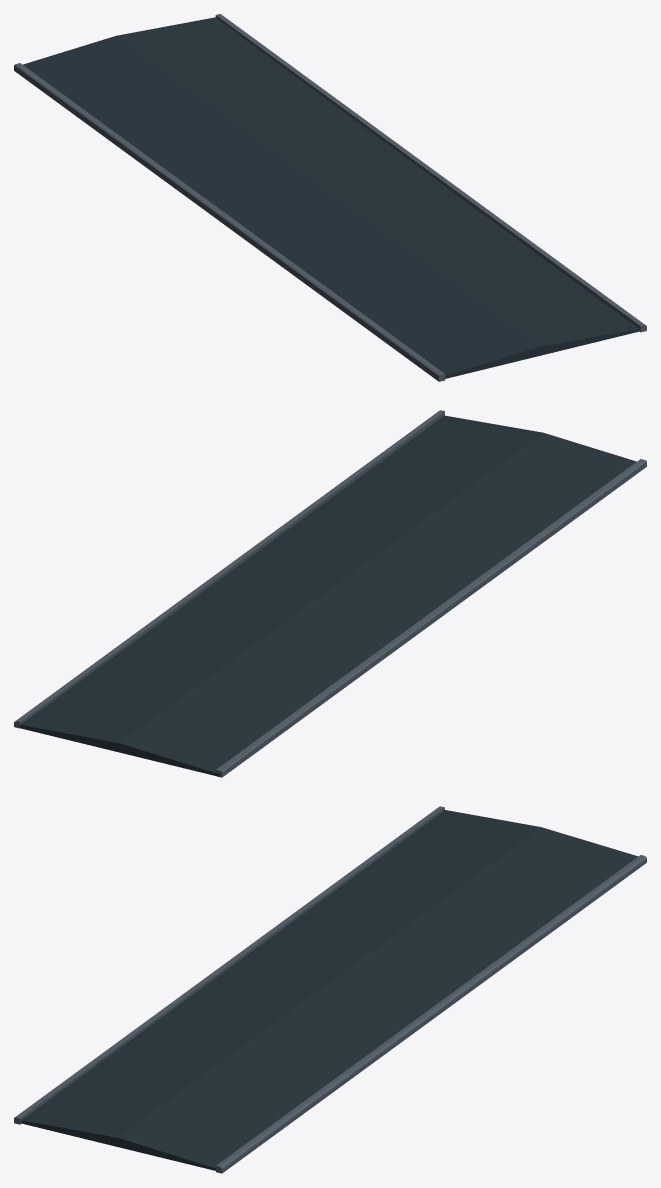
File: StraightLong.fbx
3 renders of one model, top to bottom at view 1: azimuth 30°, elevation 25°; view 2: azimuth 150°, elevation 25°; view 3: azimuth 330°, elevation 25°, orthographic.
Visible parts, largest first — view 1: Straight.009; view 2: Straight.009; view 3: Straight.009.
Boxes of the visible parts, x1=… form: Straight.009: x1=14, y1=14, x2=646, y2=381; Straight.009: x1=14, y1=410, x2=646, y2=777; Straight.009: x1=14, y1=806, x2=646, y2=1173.
Size of the model in its own units: 836 by 37.61 by 2962.
